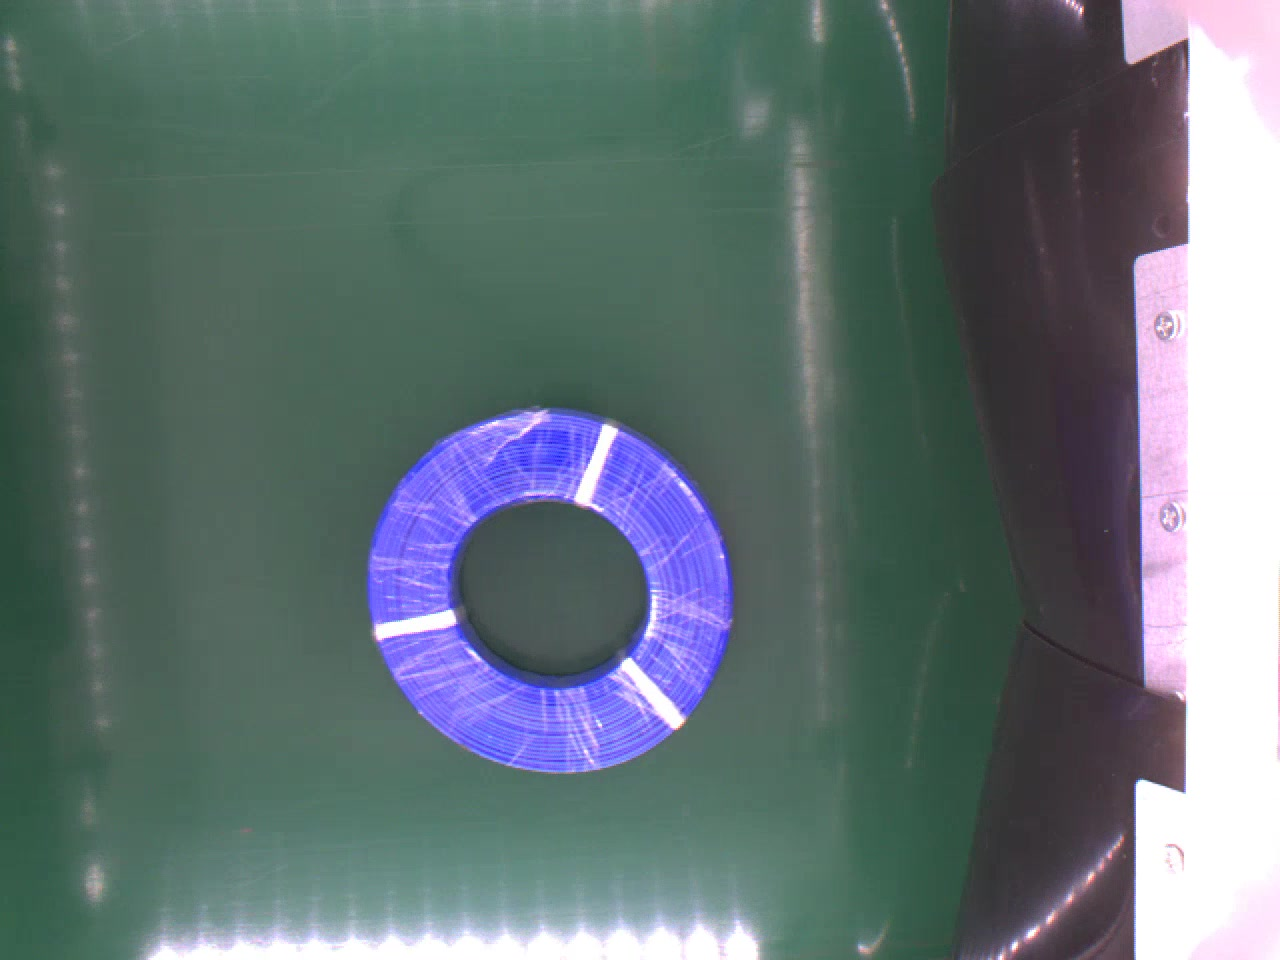blue: (366, 406, 742, 771)
